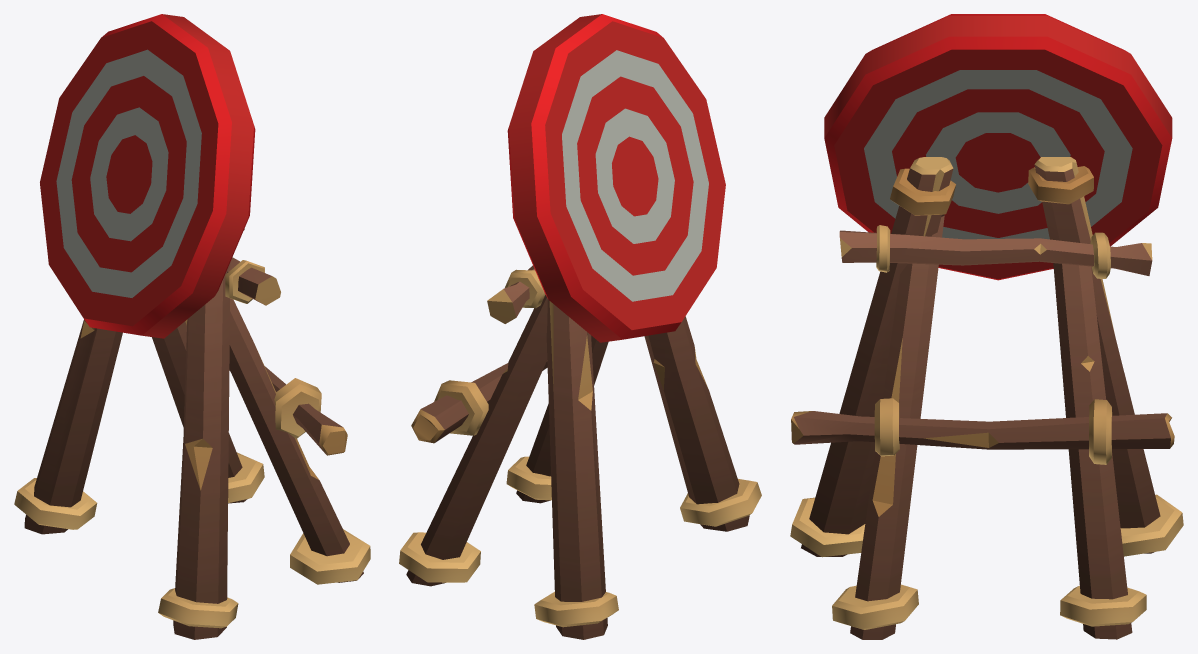
Rendered from PracticeTarget_2_B.glb.
3 renders of one model, left to right at view 1: azimuth 30°, elevation 25°; view 2: azimuth 150°, elevation 25°; view 3: azimuth 270°, elevation 25°, orthographic. The views are drawn at different scales.
Parts seen in each view (by area): view 1: PracticeTarget_2_B; view 2: PracticeTarget_2_B; view 3: PracticeTarget_2_B.
Part boxes in pixels (<box>): PracticeTarget_2_B: <box>14,14,370,639</box>; PracticeTarget_2_B: <box>399,14,761,639</box>; PracticeTarget_2_B: <box>790,14,1183,639</box>.
Size of the model in its own units: 0.5897 by 1.32 by 0.8367.
1 material, 1 textured.
